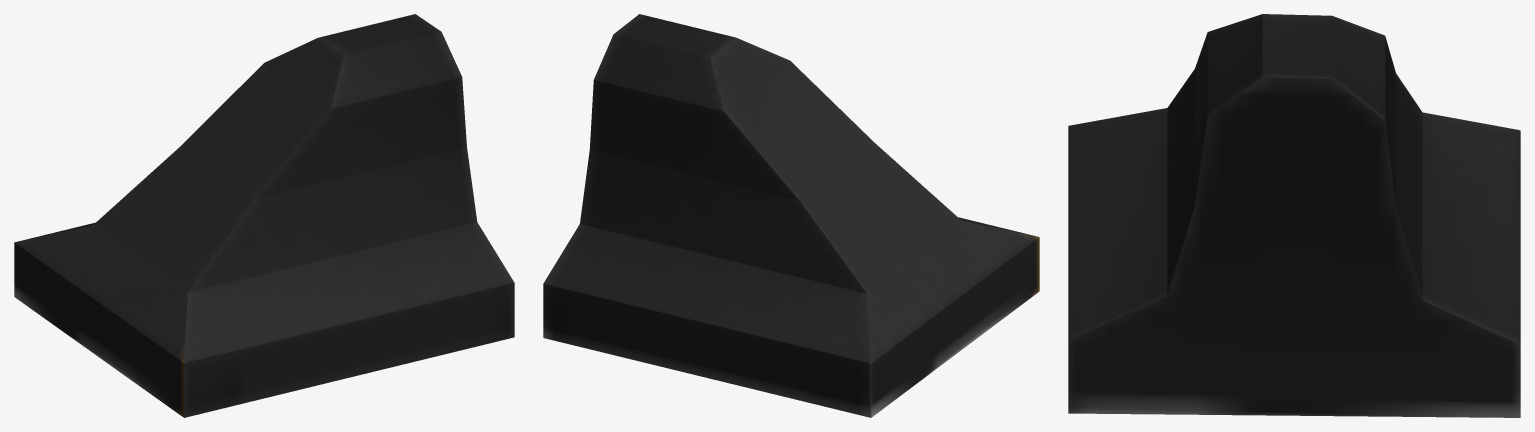
File: r_talus.dae
The picture shows the model from 3 angles, left to right: view 1: azimuth 30°, elevation 25°; view 2: azimuth 150°, elevation 25°; view 3: azimuth 270°, elevation 25°; orthographic projection. The views are drawn at different scales.
Parts seen in each view (by area): view 1: drc_r_talus; view 2: drc_r_talus; view 3: drc_r_talus.
Boxes of the visible parts, x1,y1,x2,y2 form: drc_r_talus: (14, 14, 514, 417); drc_r_talus: (543, 14, 1039, 417); drc_r_talus: (1068, 14, 1520, 417).
Size of the model in its own units: 0.0524 by 0.0466 by 0.0387.
1 material, 1 textured.
